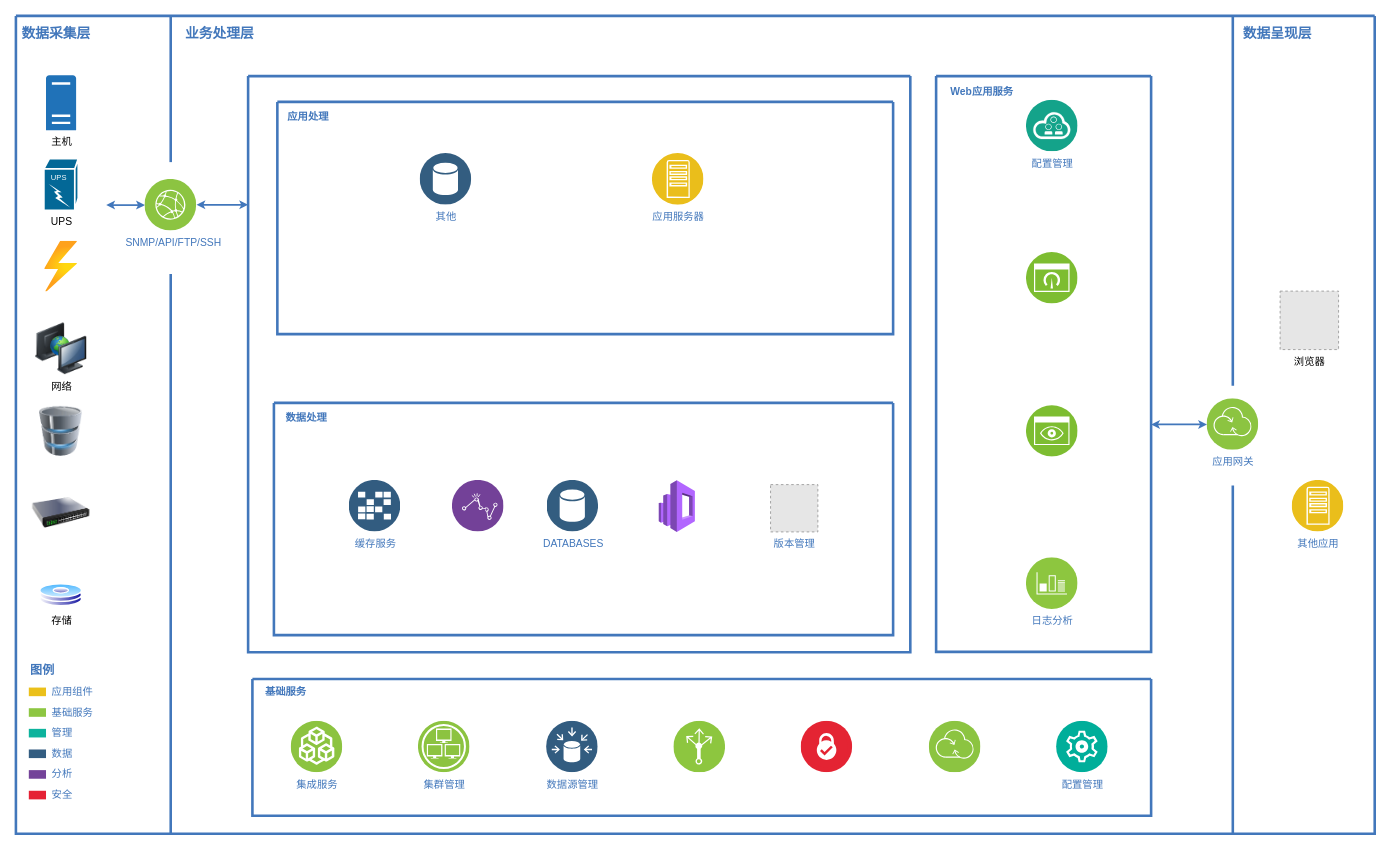
This 1391x850 diagram has some shape labels left out. Grey dashed boxes stand in for pictures. The box of each missing label's shape, as (x1, y1, x2, y2) in pixels:
KPI监控: (1026, 405, 1078, 457)
交换机: (32, 487, 89, 538)
安全认证: (801, 721, 852, 772)
数据分析: (452, 480, 504, 531)
数据库: (33, 406, 89, 456)
数据索引: (658, 479, 695, 532)
注册发现: (929, 721, 980, 772)
电源: (44, 241, 77, 292)
界面展示: (1026, 252, 1078, 304)
负载均衡: (673, 721, 725, 772)
